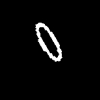chain: (36, 23, 61, 60)
